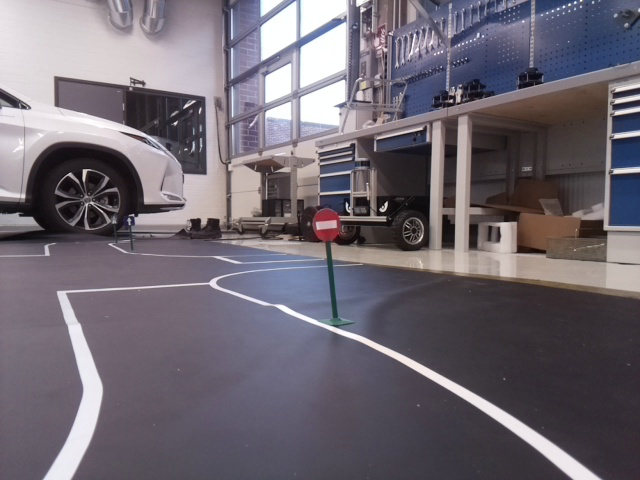NoEntry: (309, 208, 339, 242)
